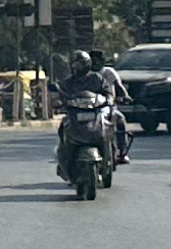BikeWithRider: (43, 44, 137, 203)
Helmet: (66, 46, 94, 78)
NoHelmet: (85, 46, 109, 72)
